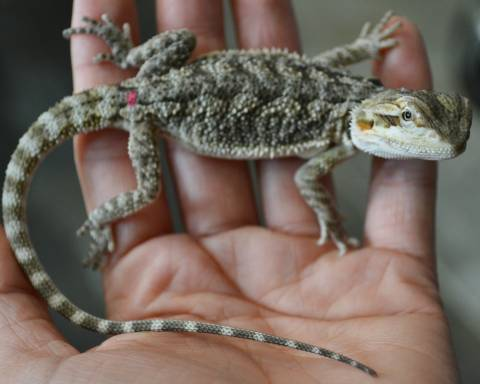bearded: (1, 9, 474, 379)
